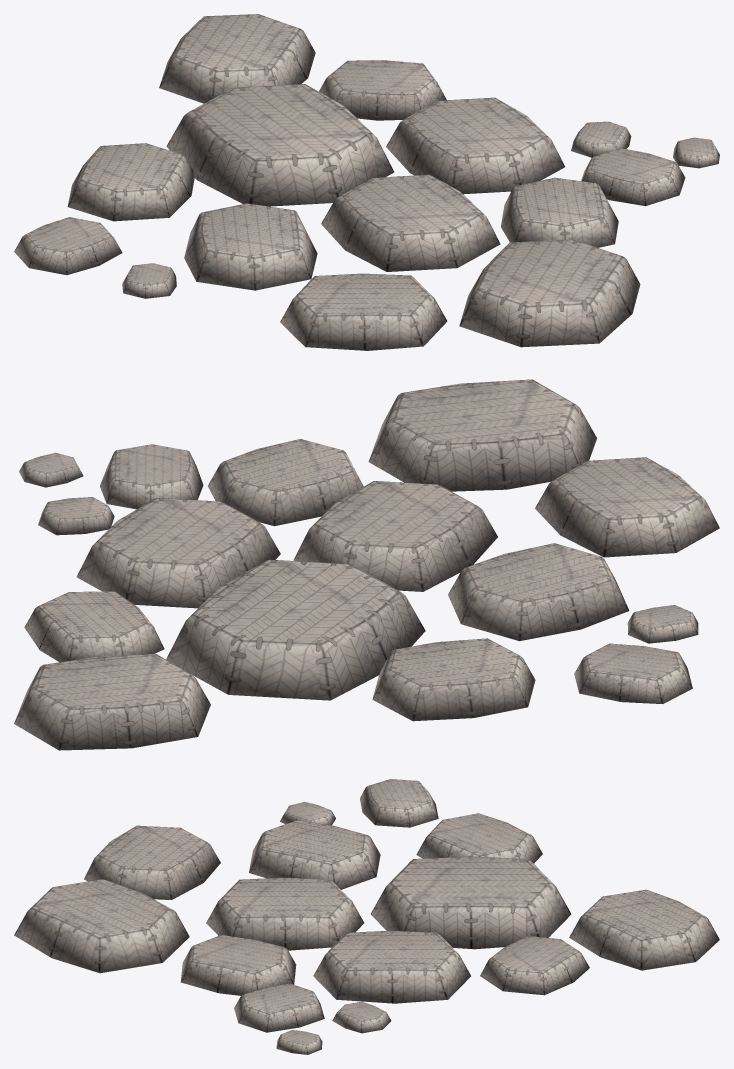
Rendered from lpb_cs_Stone3.fbx.
3 views of the same model, one above another, from view 1: azimuth 30°, elevation 25°; view 2: azimuth 150°, elevation 25°; view 3: azimuth 270°, elevation 25° (orthographic). The views are drawn at different scales.
Parts seen in each view (by area): view 1: lpb_cs_Stone3; view 2: lpb_cs_Stone3; view 3: lpb_cs_Stone3.
Part boxes in pixels (bbox=[...]): lpb_cs_Stone3: bbox=[14, 14, 719, 350]; lpb_cs_Stone3: bbox=[14, 379, 719, 750]; lpb_cs_Stone3: bbox=[14, 779, 719, 1054].
Bounding box in the file's own units: 126 × 7.16 × 142.
